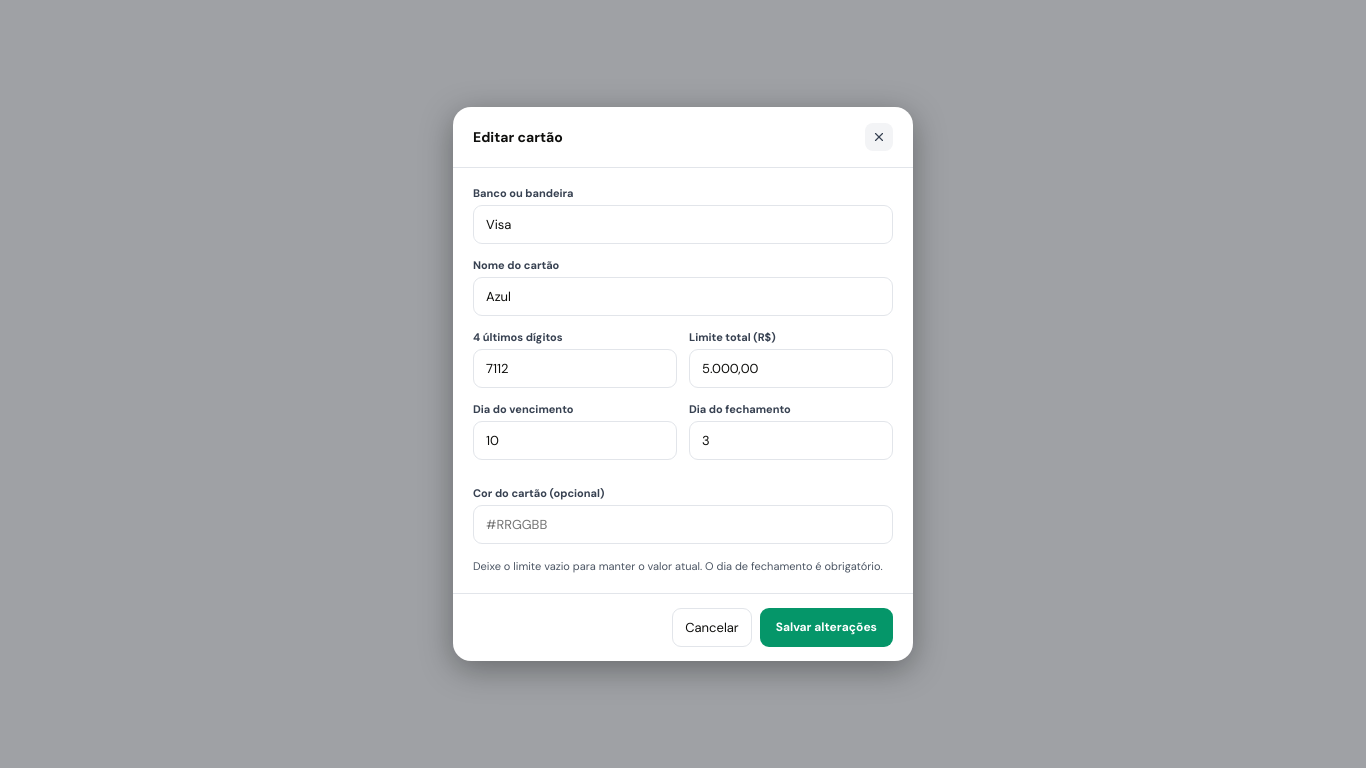
Test: EditCardDialog — o fechamento é obrigatório › não deixa salvar com o fechamento vazio e sugere 7 dias antes do vencimento
Clear the field labelled "Dia do fechamento": (791, 441) [689,421,893,460]
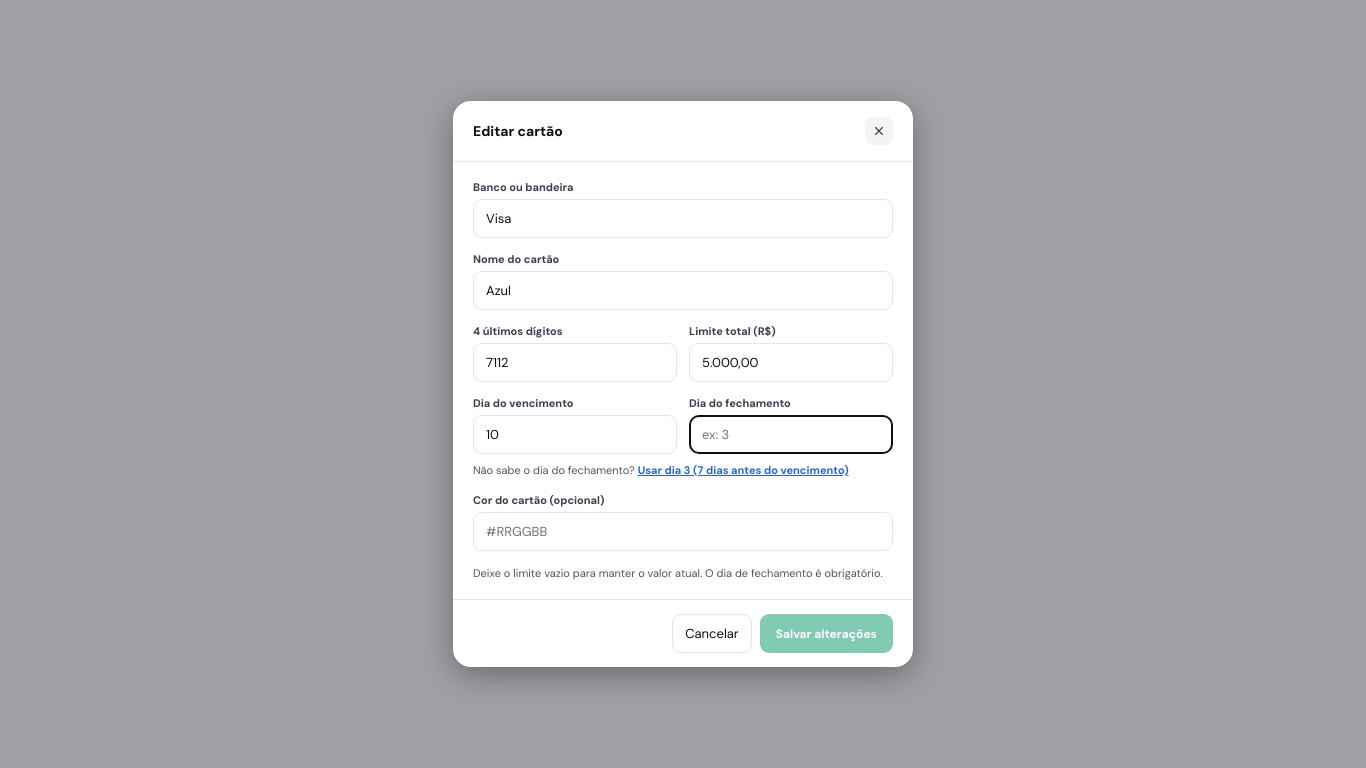
Expected: the button "Salvar alterações" is disabled, [760,614,893,653]
Click the button "Usar dia 3 (7 dias antes do vencimento)": (743, 470) [638,463,849,477]
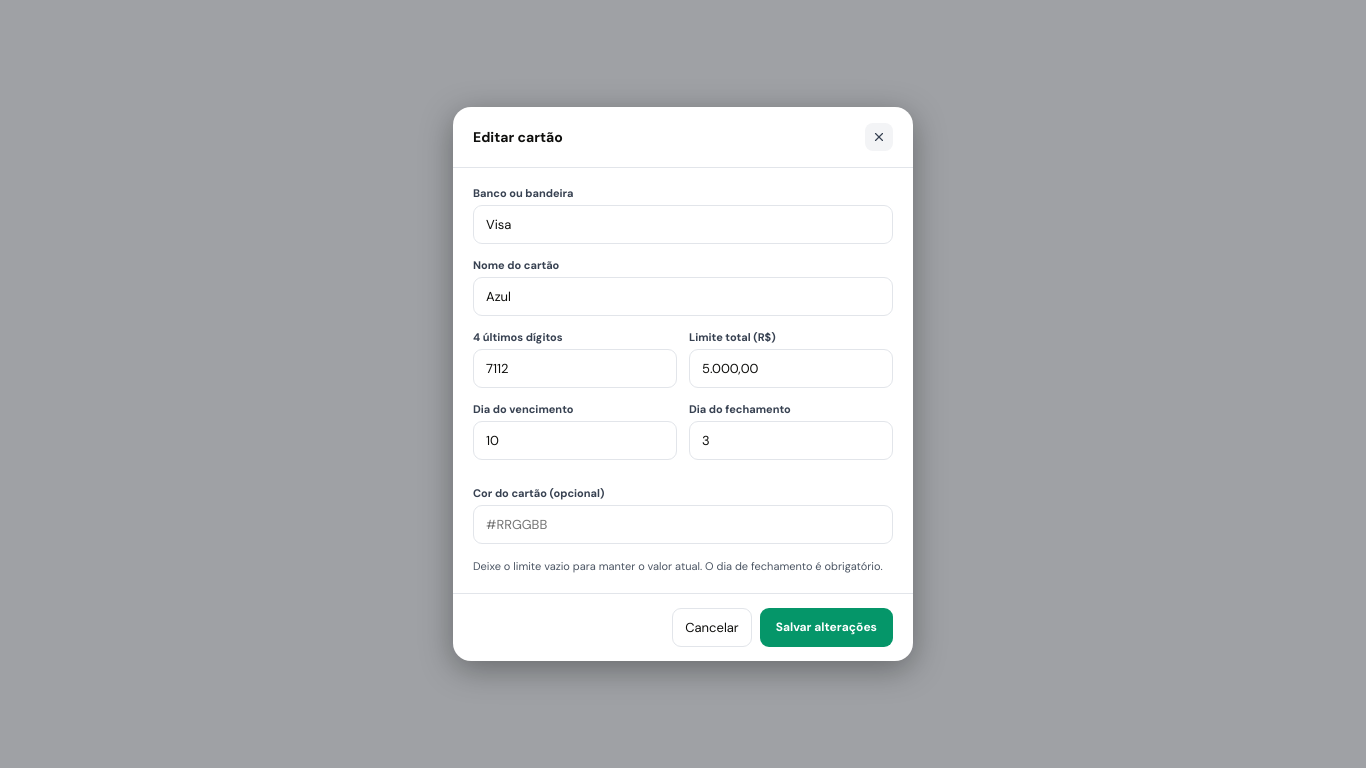
Expected: the field labelled "Dia do fechamento" holds "3", [689,421,893,460]
Expected: the button "Salvar alterações" is enabled, [760,608,893,647]
